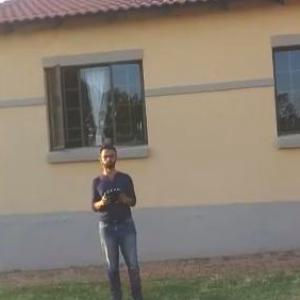follow: (86, 141, 148, 299)
